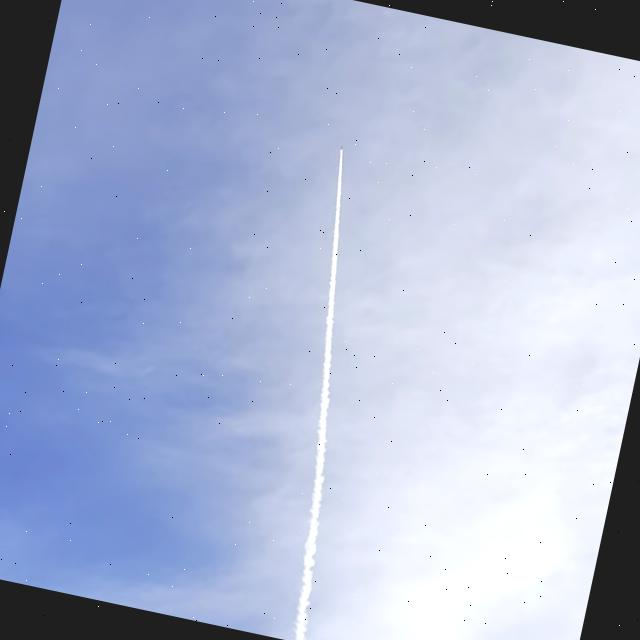smoke_trail_with_rocket: (294, 156, 342, 640)
